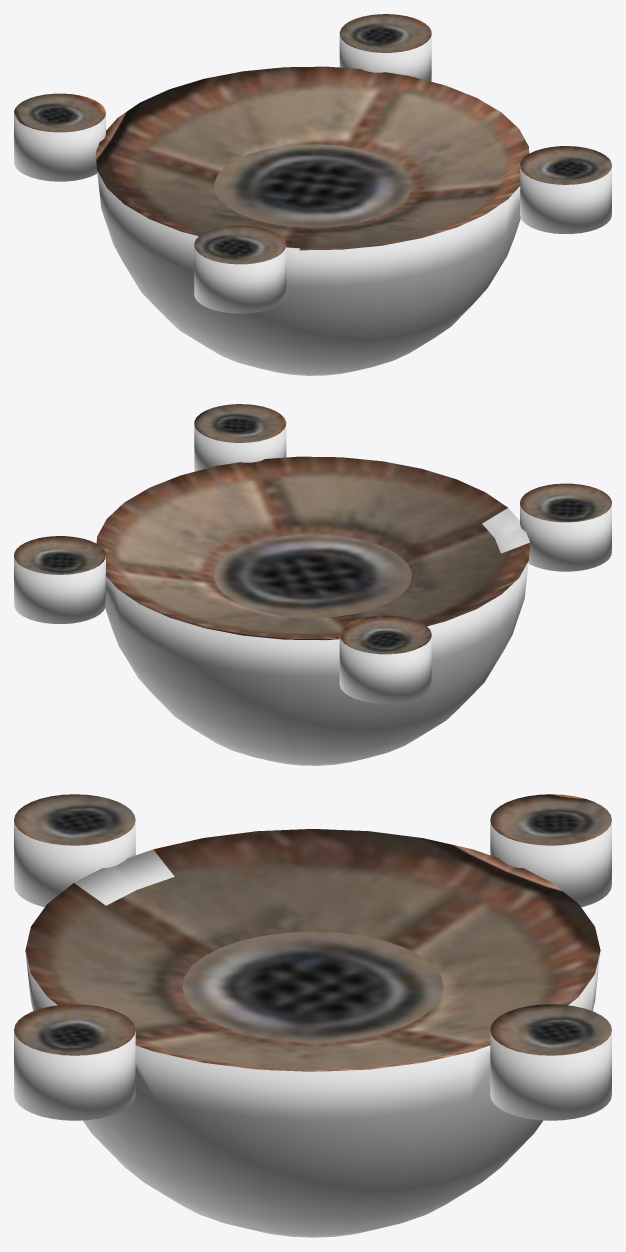
Rendered from game_assets.fbx.
3 views of the same model, one above another, from view 1: azimuth 30°, elevation 25°; view 2: azimuth 150°, elevation 25°; view 3: azimuth 270°, elevation 25° (orthographic). The views are drawn at different scales.
Parts seen in each view (by area): view 1: Sphere, Cylinder; view 2: Sphere, Cylinder; view 3: Sphere, Cylinder.
Part boxes in pixels (bbox=[...]): Sphere: bbox=[95, 66, 529, 375]; Cylinder: bbox=[14, 14, 611, 313]; Sphere: bbox=[96, 456, 530, 765]; Cylinder: bbox=[14, 404, 611, 703]; Sphere: bbox=[25, 829, 600, 1237]; Cylinder: bbox=[14, 794, 611, 1120].
Size of the model in its own units: 215 by 110 by 208.
Materials: 4 (2 with a texture image).
